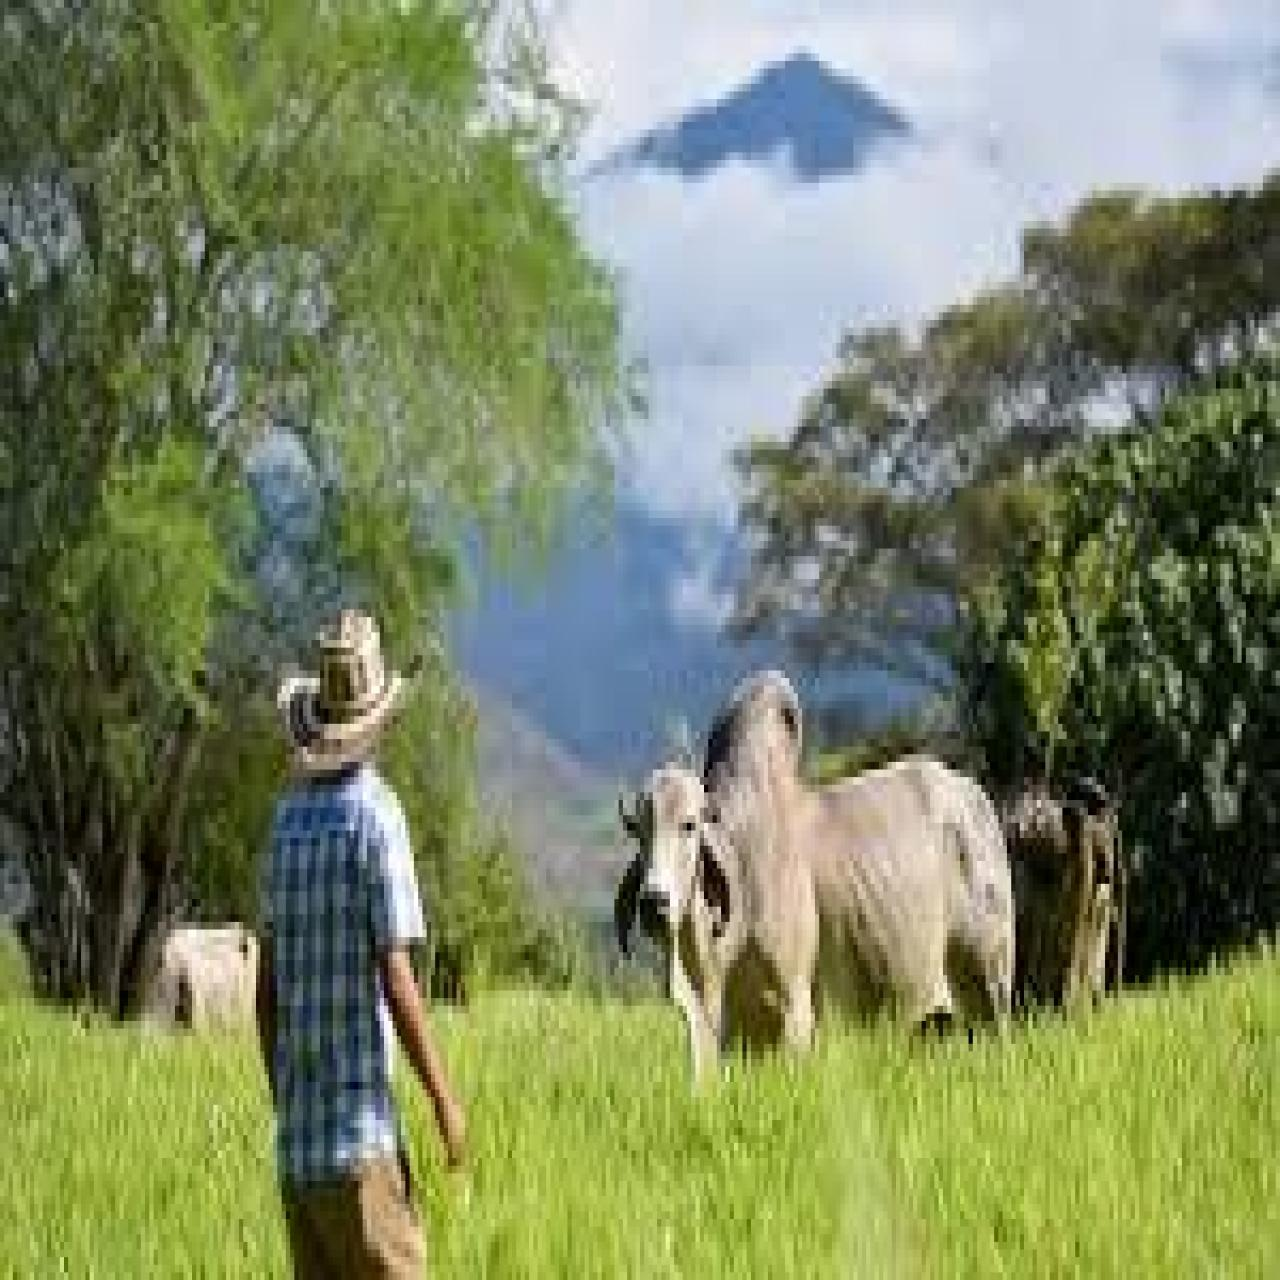cow: (620, 762, 1017, 1097)
